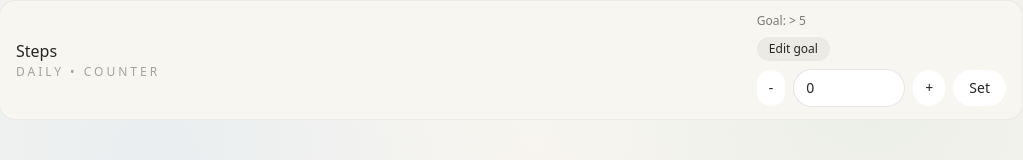
Test case: HabitRow counter goals › adjusts counter draft with increase and decrease buttons while unset
What coordinates should you click on to do the following:
click the button named "Increase counter"
I would click on:
 (929, 88)
Its box is [913, 70, 945, 106].
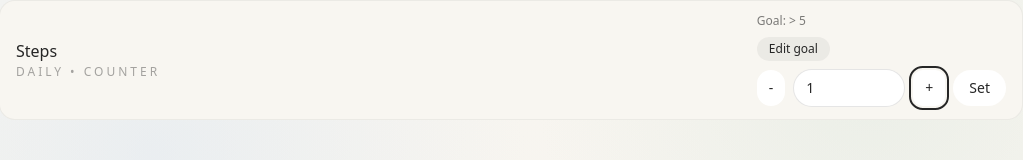
What coordinates should you click on to do the following:
click the button named "Increase counter"
I would click on:
 (929, 88)
Its box is [913, 70, 945, 106].
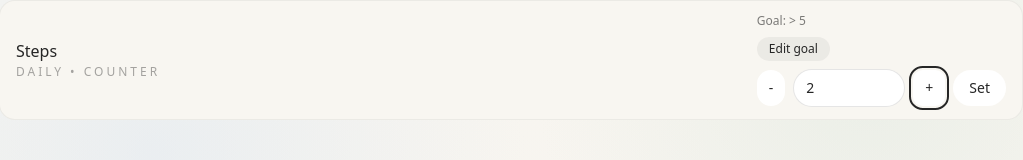
What coordinates should you click on to do the following:
click the button named "Decrease counter"
I would click on:
 (771, 88)
Its box is [757, 70, 785, 106].
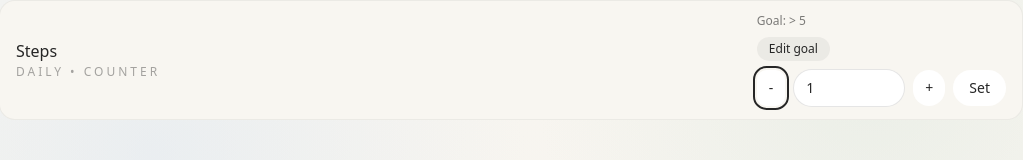
Expected: the field named "Steps counter value" holds "1", [793, 69, 905, 107]
